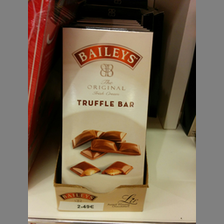chocolate: (62, 28, 154, 196)
